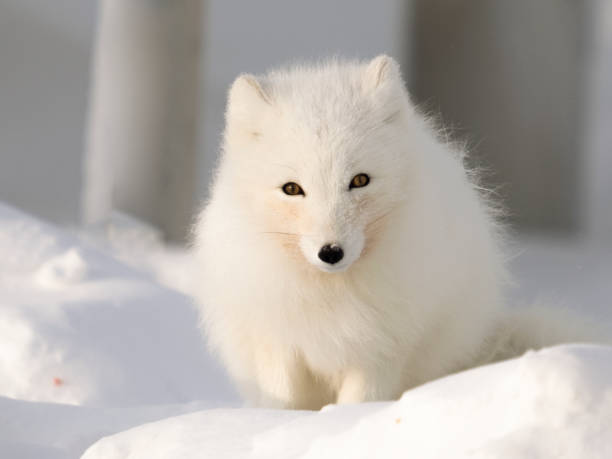arcticfox: (241, 85, 394, 296)
